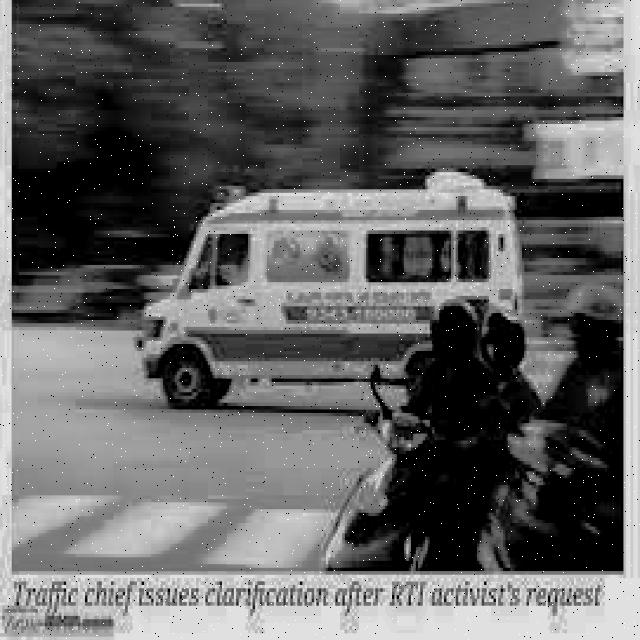Ambulance: (140, 172, 483, 320)
